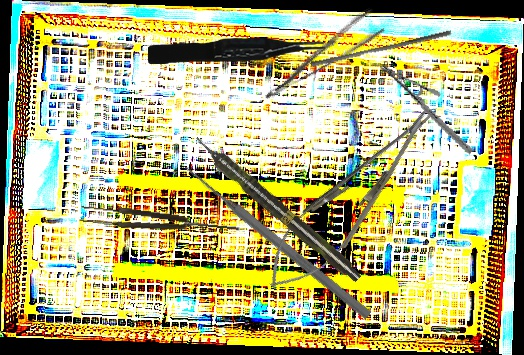Dressing Forceps: (251, 6, 387, 103)
Handpiece: (190, 130, 365, 287)
Needle Holder: (250, 90, 454, 307), (364, 62, 489, 156)
Pusher: (181, 161, 374, 322), (310, 24, 452, 73)
Tissue Forceps: (78, 203, 242, 240), (148, 38, 325, 64)
